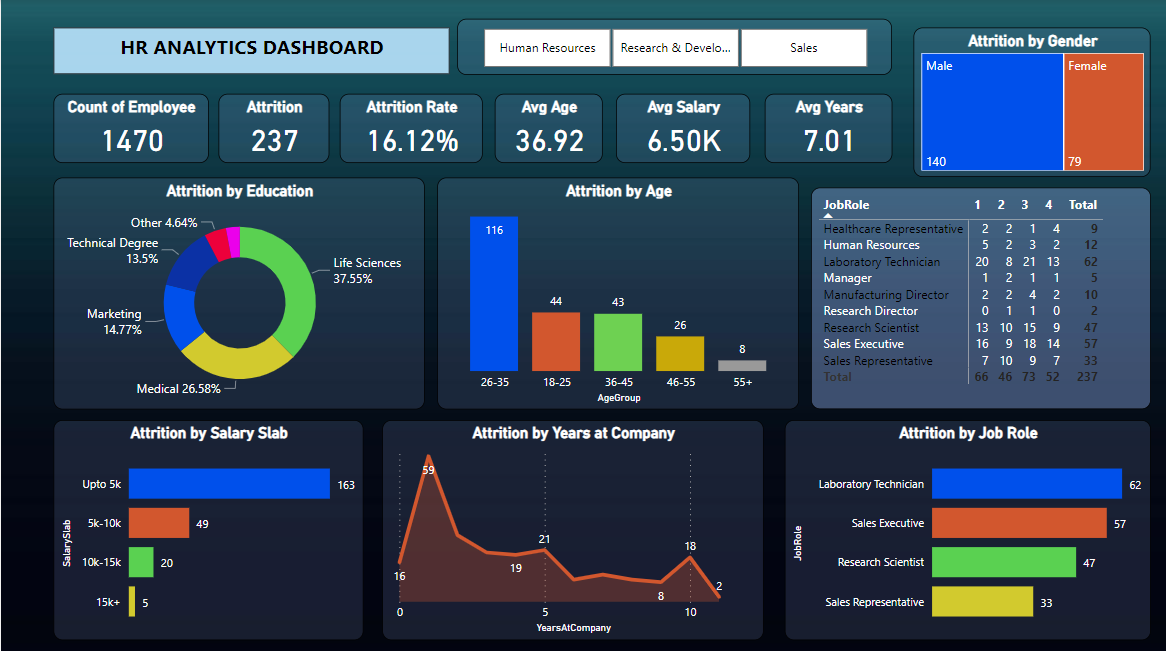

The dashboard page shown, as its layout file describes it:
{"tool":"powerbi","page":{"name":"Page 1","canvas":[1280,720],"ordinal":0},"visuals":[{"type":"card","title":"Count of Employee","fields":{"Values":["Count(HR_Analytics.EmpID)"]},"box":[57.1,102.9,170,75.7],"z":0},{"type":"card","title":"Attrition","fields":{"Values":["Sum(HR_Analytics.Attrition_count)"]},"box":[238.6,102.9,121.4,75.7],"z":1000},{"type":"card","title":"Avg Age","fields":{"Values":["Avg(HR_Analytics.Age)"]},"box":[541.4,102.9,118.6,75.7],"z":2000},{"type":"card","title":"Attrition Rate","fields":{"Values":["HR_Analytics.Attrition_rate"]},"box":[371.4,102.9,157.1,75.7],"z":3000},{"type":"card","title":"Avg Years","fields":{"Values":["Avg(HR_Analytics.YearsAtCompany)"]},"box":[837.1,102.9,140,75.7],"z":4000},{"type":"card","title":"Avg Salary","fields":{"Values":["Avg(HR_Analytics.MonthlyIncome)"]},"box":[674.3,102.9,147.1,75.7],"z":5000},{"type":"donutChart","title":"Attrition by Education","fields":{"Category":["HR_Analytics.EducationField"],"Y":["Sum(HR_Analytics.Attrition_count)"]},"box":[57.1,194.3,407.1,254.3],"z":6000},{"type":"columnChart","title":"Attrition by Age","fields":{"Category":["HR_Analytics.AgeGroup"],"Y":["Sum(HR_Analytics.Attrition_count)"]},"box":[478.6,194.3,397.1,254.3],"z":7000},{"type":"pivotTable","fields":{"Rows":["HR_Analytics.JobRole"],"Columns":["HR_Analytics.JobSatisfaction"],"Values":["Sum(HR_Analytics.Attrition_count)"]},"box":[888.6,205.7,372.9,242.9],"z":8000},{"type":"clusteredBarChart","title":"Attrition by Salary Slab","fields":{"Category":["HR_Analytics.SalarySlab"],"Y":["Sum(HR_Analytics.Attrition_count)"]},"box":[57.1,460,340,241.4],"z":9000},{"type":"areaChart","title":"Attrition by Years at Company","fields":{"Category":["HR_Analytics.YearsAtCompany"],"Y":["Sum(HR_Analytics.Attrition_count)"]},"box":[418.6,460,418.6,241.4],"z":10000},{"type":"clusteredBarChart","title":"Attrition by Job Role","fields":{"Category":["HR_Analytics.JobRole"],"Y":["Sum(HR_Analytics.Attrition_count)"]},"box":[860,460,401.4,241.4],"z":11000},{"type":"treemap","title":"Attrition by Gender","fields":{"Group":["HR_Analytics.Gender"],"Values":["Sum(HR_Analytics.Attrition_count)"]},"box":[1001.4,30,260,164.3],"z":12000},{"type":"slicer","title":"Attrition by Age","fields":{"Values":["HR_Analytics.Department"]},"box":[500.4,20.6,477.1,61.7],"z":13000},{"type":"textbox","box":[57.1,30,434.3,51.4],"z":14000}]}

Visuals, with their boxes in screenshot pixels (x1, y1, x2, y2), scaled from the page's 1280x720 canvas onto the 1166x651 screenshot:
"Count of Employee" card: box(52, 93, 207, 161)
"Attrition" card: box(217, 93, 328, 161)
"Avg Age" card: box(493, 93, 601, 161)
"Attrition Rate" card: box(338, 93, 481, 161)
"Avg Years" card: box(763, 93, 890, 161)
"Avg Salary" card: box(614, 93, 748, 161)
"Attrition by Education" donutChart: box(52, 176, 423, 406)
"Attrition by Age" columnChart: box(436, 176, 798, 406)
pivotTable - HR_Analytics.JobRole x HR_Analytics.JobSatisfaction: box(809, 186, 1149, 406)
"Attrition by Salary Slab" clusteredBarChart: box(52, 416, 362, 634)
"Attrition by Years at Company" areaChart: box(381, 416, 763, 634)
"Attrition by Job Role" clusteredBarChart: box(783, 416, 1149, 634)
"Attrition by Gender" treemap: box(912, 27, 1149, 176)
"Attrition by Age" slicer: box(456, 19, 890, 74)
textbox: box(52, 27, 448, 74)
